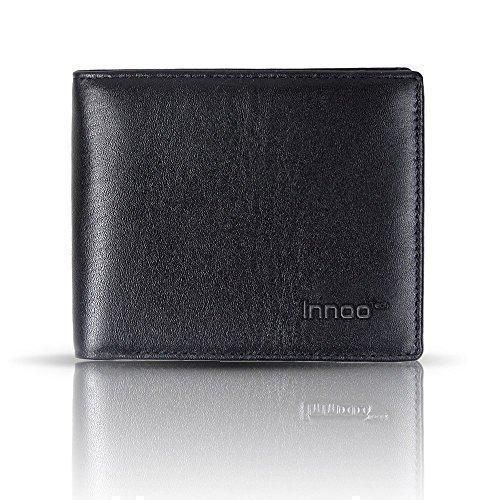monedero: (69, 66, 424, 362)
